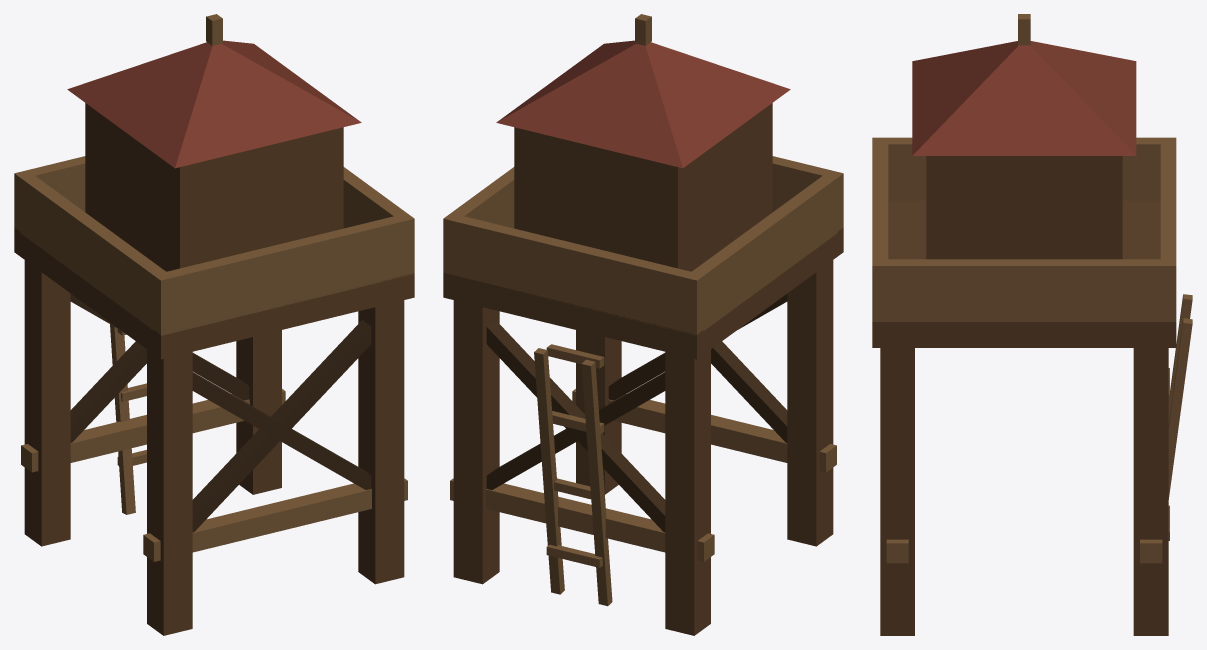
File: tower_lowpoly.glb
3 views of the same model, side by side, from view 1: azimuth 30°, elevation 25°; view 2: azimuth 150°, elevation 25°; view 3: azimuth 270°, elevation 25° (orthographic). The views are drawn at different scales.
Visible parts, largest first — view 1: lp_tower; view 2: lp_tower; view 3: lp_tower.
Boxes of the visible parts, box(x1,y1,x2,y2) form: lp_tower: box(14, 14, 414, 635); lp_tower: box(443, 14, 843, 635); lp_tower: box(872, 14, 1192, 635).
Size of the model in its own units: 0.96 by 1.94 by 1.01.
